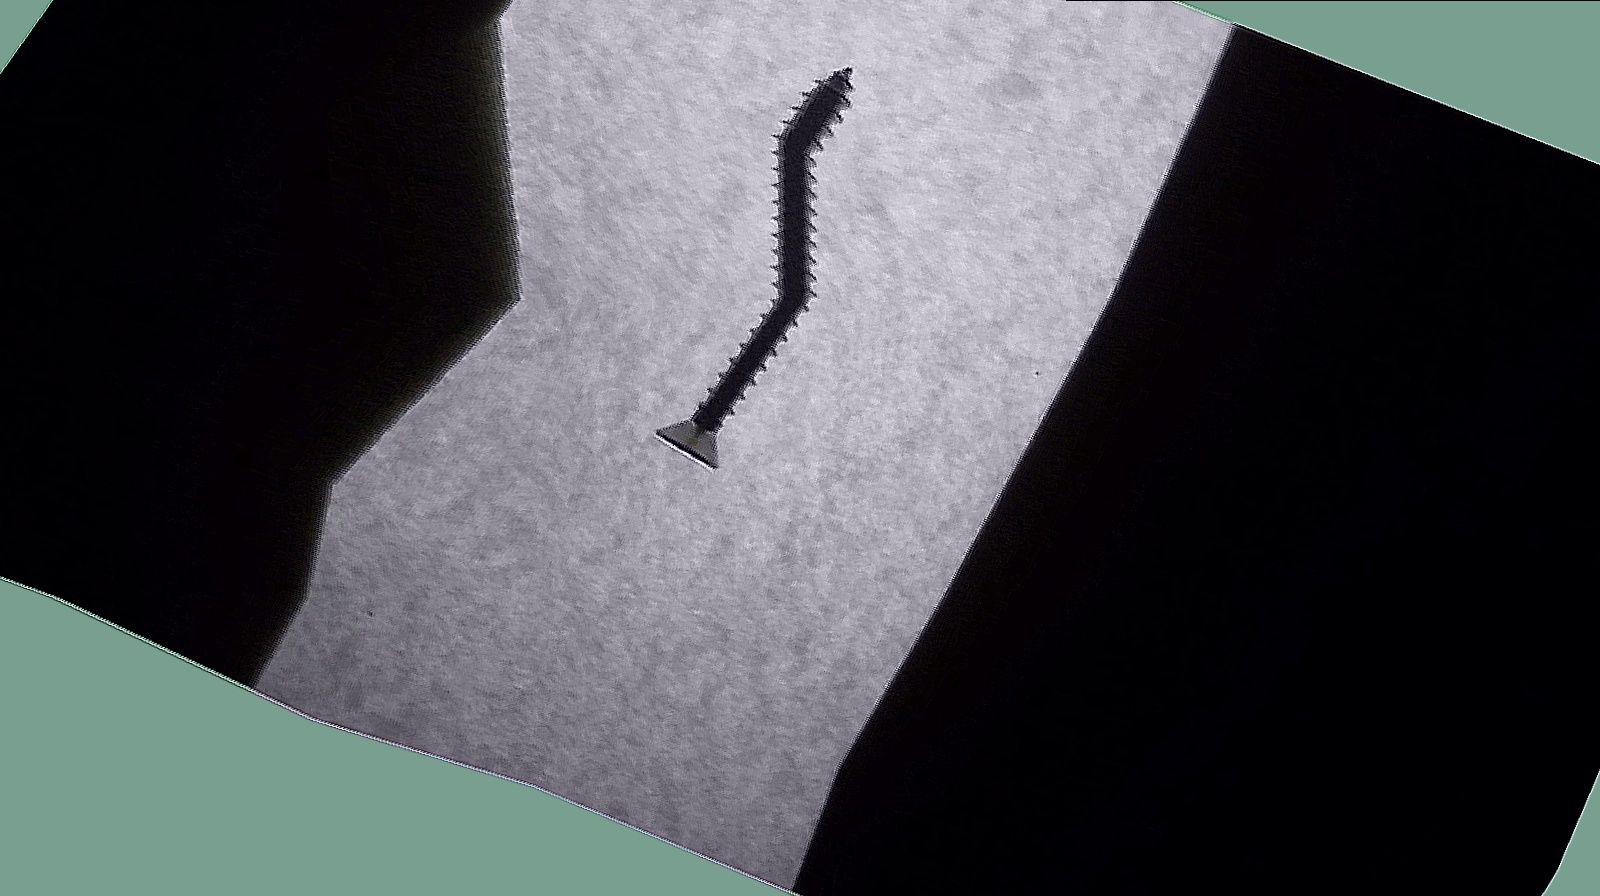S002: (609, 16, 922, 510)
